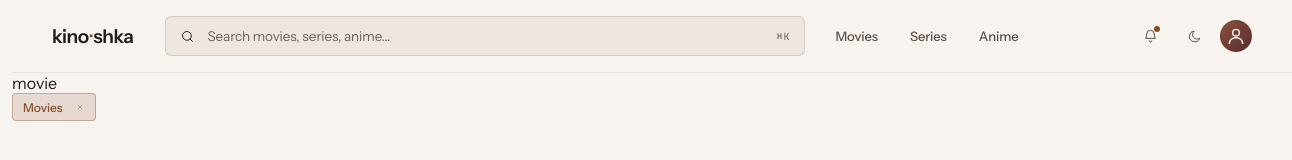
it: Header — nav pills синхронизируют ?type с фильтром/chips › переключение Movies → Series на /search обновляет ?type и chip без переоткрытия страницы
Expected: the text with test id "filter-type" reads "movie", 12,73 -> 57,93
Expected: the number of buttons "Movies" is 2, 821,19 -> 892,53; 12,93 -> 96,121
Click the button "Series" at (928, 36), box 896,19 -> 961,53
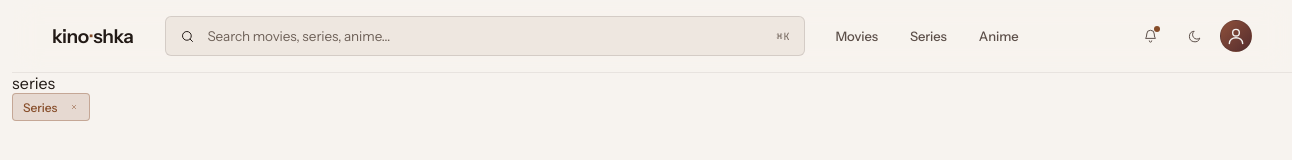
Expected: the number of buttons "Series" is 2, 896,19 -> 961,53; 12,93 -> 90,121
Expected: the text with test id "filter-type" reads "series", 12,73 -> 55,93
